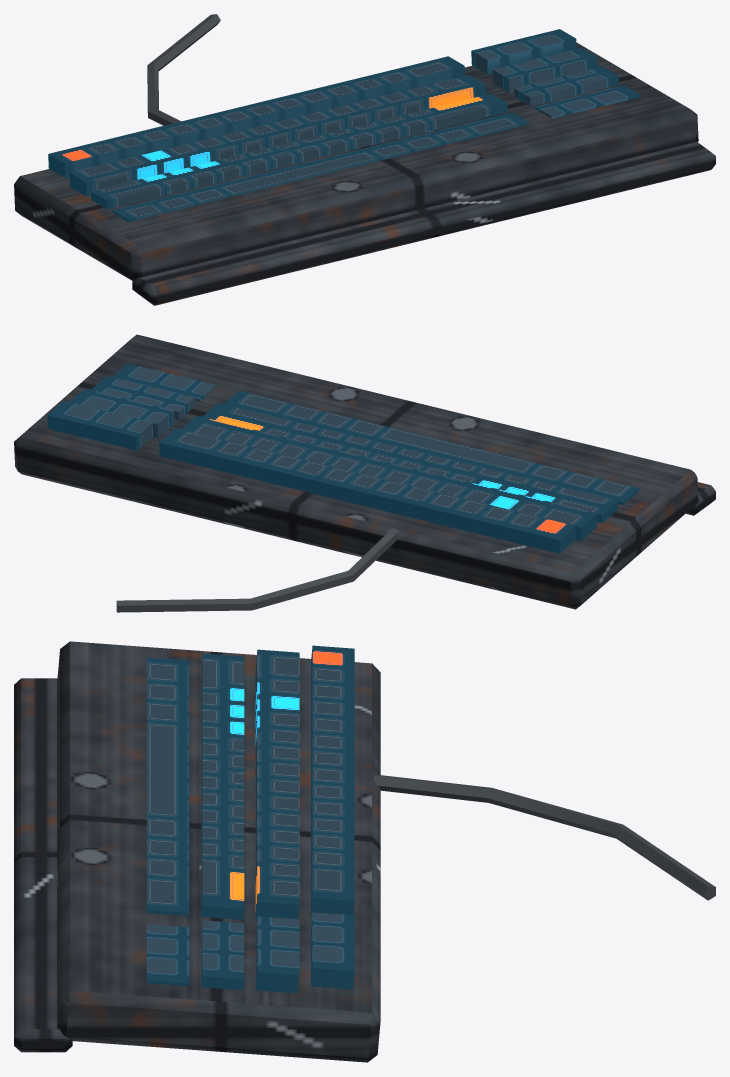
Rendered from mech-keyboard-lowpoly-01.glb.
3 views of the same model, one above another, from view 1: azimuth 30°, elevation 25°; view 2: azimuth 150°, elevation 25°; view 3: azimuth 270°, elevation 25° (orthographic). The views are drawn at different scales.
Visible parts, largest first — view 1: teclado_pc; view 2: teclado_pc; view 3: teclado_pc.
Part boxes in pixels (x1=…): teclado_pc: x1=14, y1=14, x2=715, y2=305; teclado_pc: x1=14, y1=334, x2=715, y2=612; teclado_pc: x1=14, y1=641, x2=715, y2=1062.
Bounding box in the file's own units: 0.46 × 0.0487 × 0.3821.
3 materials, 2 textured.
